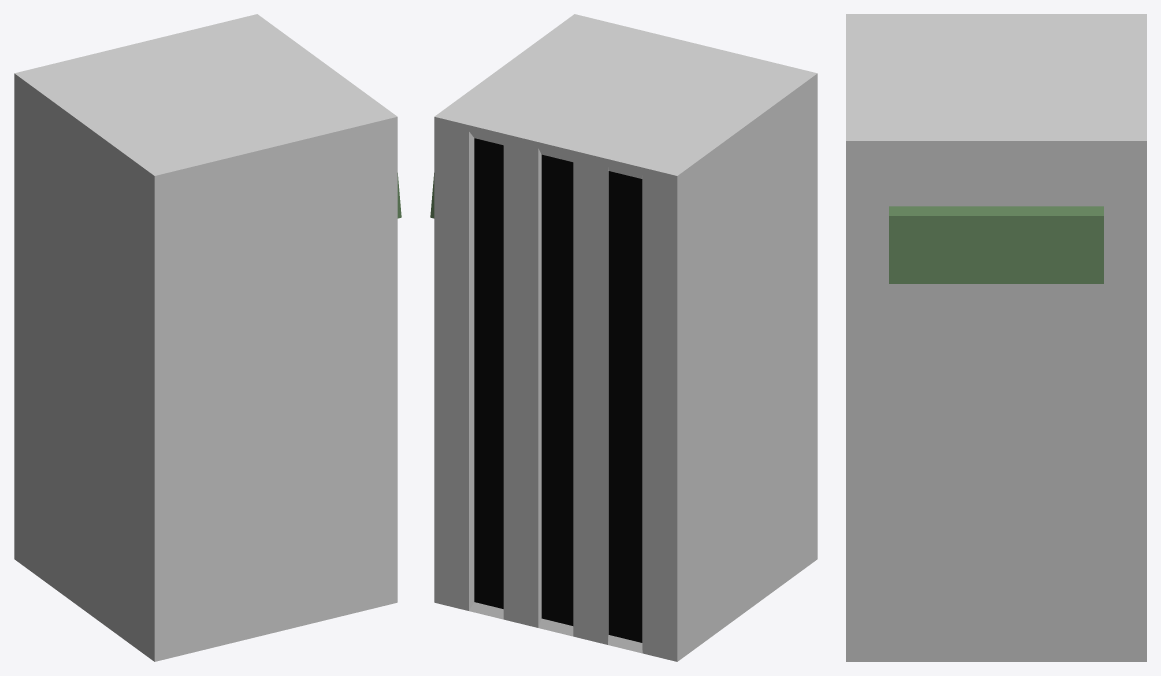
File: Building_One.fbx
3 renders of one model, left to right at view 1: azimuth 30°, elevation 25°; view 2: azimuth 150°, elevation 25°; view 3: azimuth 270°, elevation 25°, orthographic. The views are drawn at different scales.
Visible parts, largest first — view 1: pCube1; view 2: pCube1; view 3: pCube1.
Part boxes in pixels (x1,y1,x2,y2): pCube1: [14, 14, 401, 661]; pCube1: [430, 14, 817, 661]; pCube1: [846, 14, 1146, 661].
Bounding box in the file's own units: 8.21 × 14.27 × 7.47.
